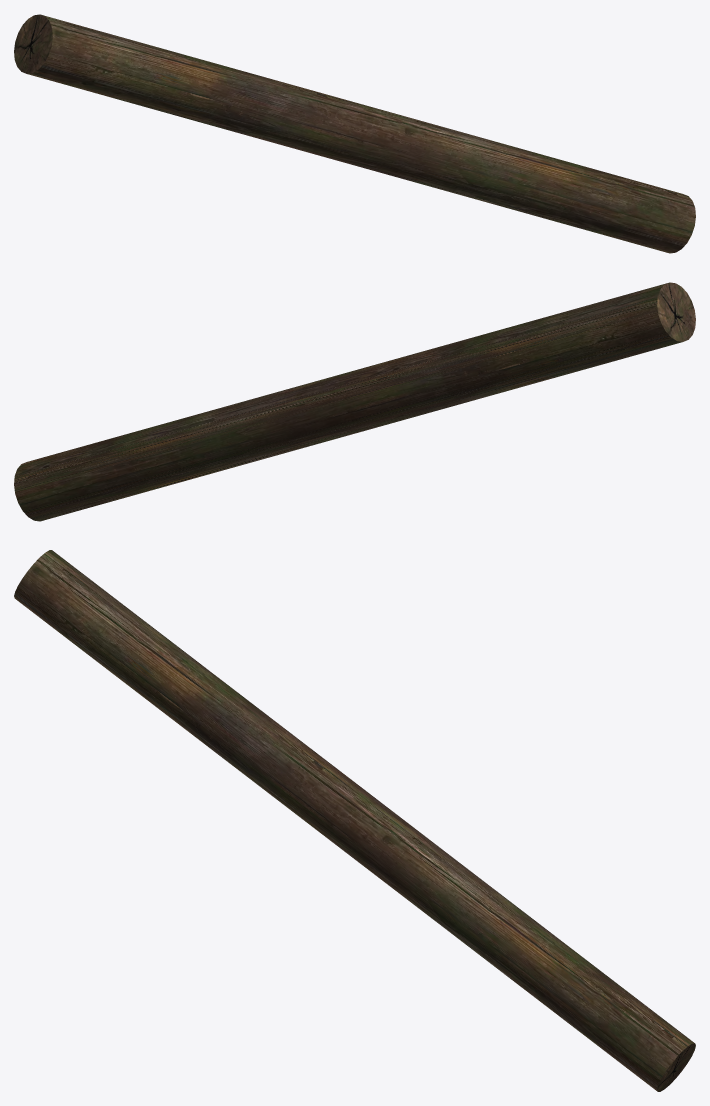
3 views of the same model, one above another, from view 1: azimuth 30°, elevation 25°; view 2: azimuth 150°, elevation 25°; view 3: azimuth 330°, elevation 25° (orthographic).
Parts seen in each view (by area): view 1: SM_BB_T1_Beam_Thin_Large_Shallow_LOD0; view 2: SM_BB_T1_Beam_Thin_Large_Shallow_LOD0; view 3: SM_BB_T1_Beam_Thin_Large_Shallow_LOD0.
Part boxes in pixels (x1,y1,x2,y2): SM_BB_T1_Beam_Thin_Large_Shallow_LOD0: (14,14,695,253); SM_BB_T1_Beam_Thin_Large_Shallow_LOD0: (14,282,695,521); SM_BB_T1_Beam_Thin_Large_Shallow_LOD0: (14,550,695,1091).
Bounding box in the file's own units: 3.11 × 1.72 × 0.2471.
Materials: 1 (1 with a texture image).
